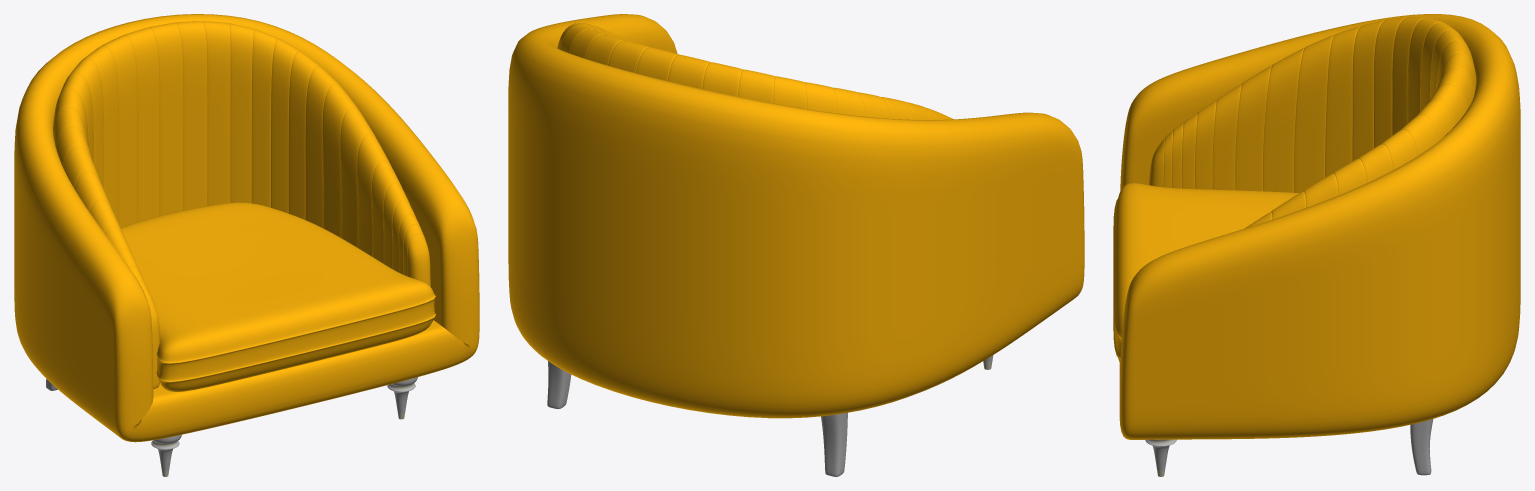
Rendered from silla.glb.
3 renders of one model, left to right at view 1: azimuth 30°, elevation 25°; view 2: azimuth 150°, elevation 25°; view 3: azimuth 270°, elevation 25°, orthographic. The views are drawn at different scales.
Visible parts, largest first — view 1: Cube.001; view 2: Cube.001; view 3: Cube.001.
Part boxes in pixels (bbox=[...]): Cube.001: bbox=[14, 14, 479, 476]; Cube.001: bbox=[508, 14, 1084, 476]; Cube.001: bbox=[1113, 14, 1520, 476].
Bounding box in the file's own units: 0.8846 × 0.7494 × 0.7716.
4 materials, 3 textured.
